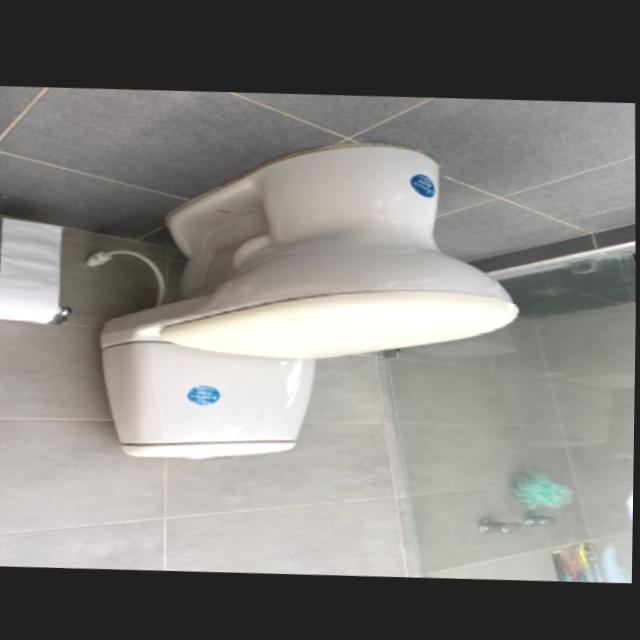toilet: (94, 127, 524, 471)
